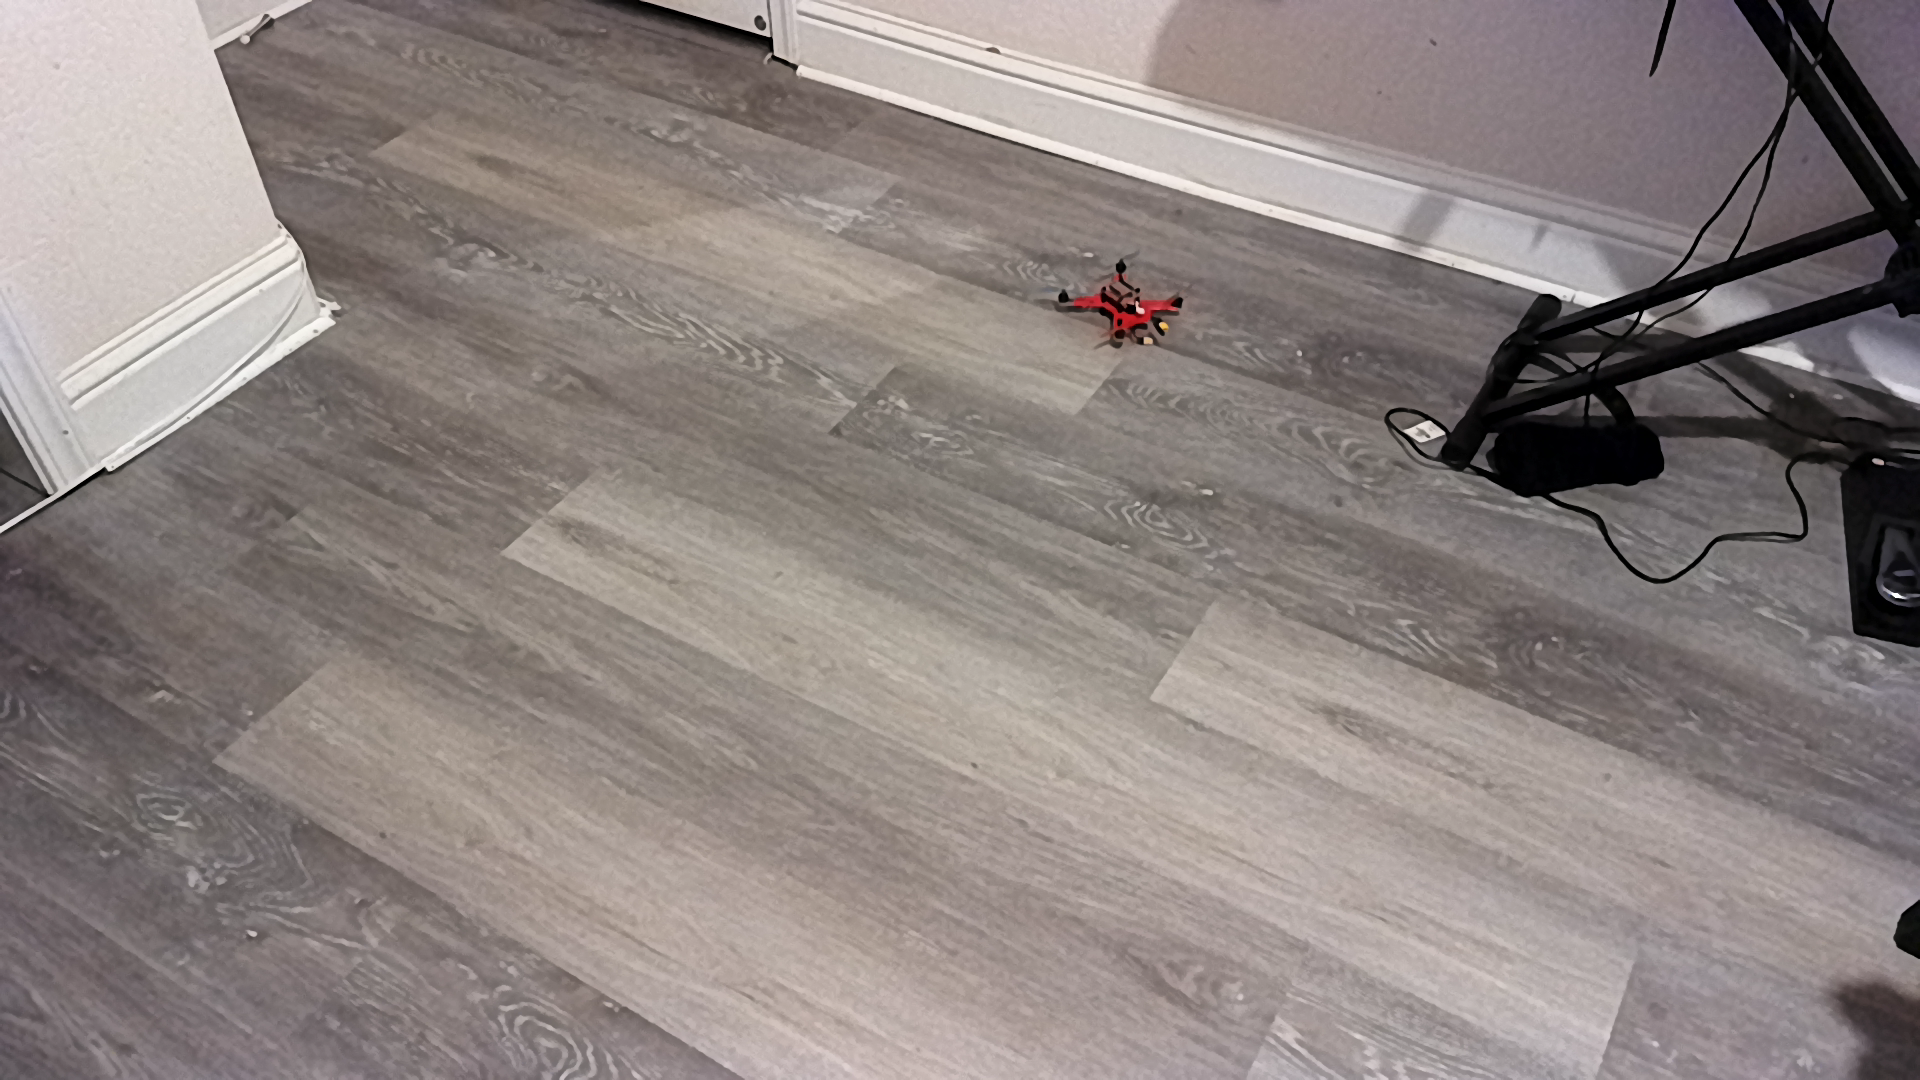drone: (1042, 249, 1205, 361)
